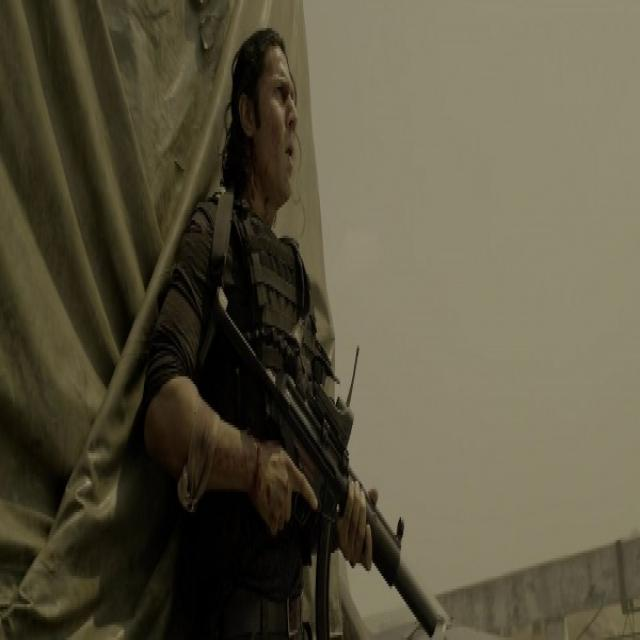rifle: (212, 294, 443, 640)
